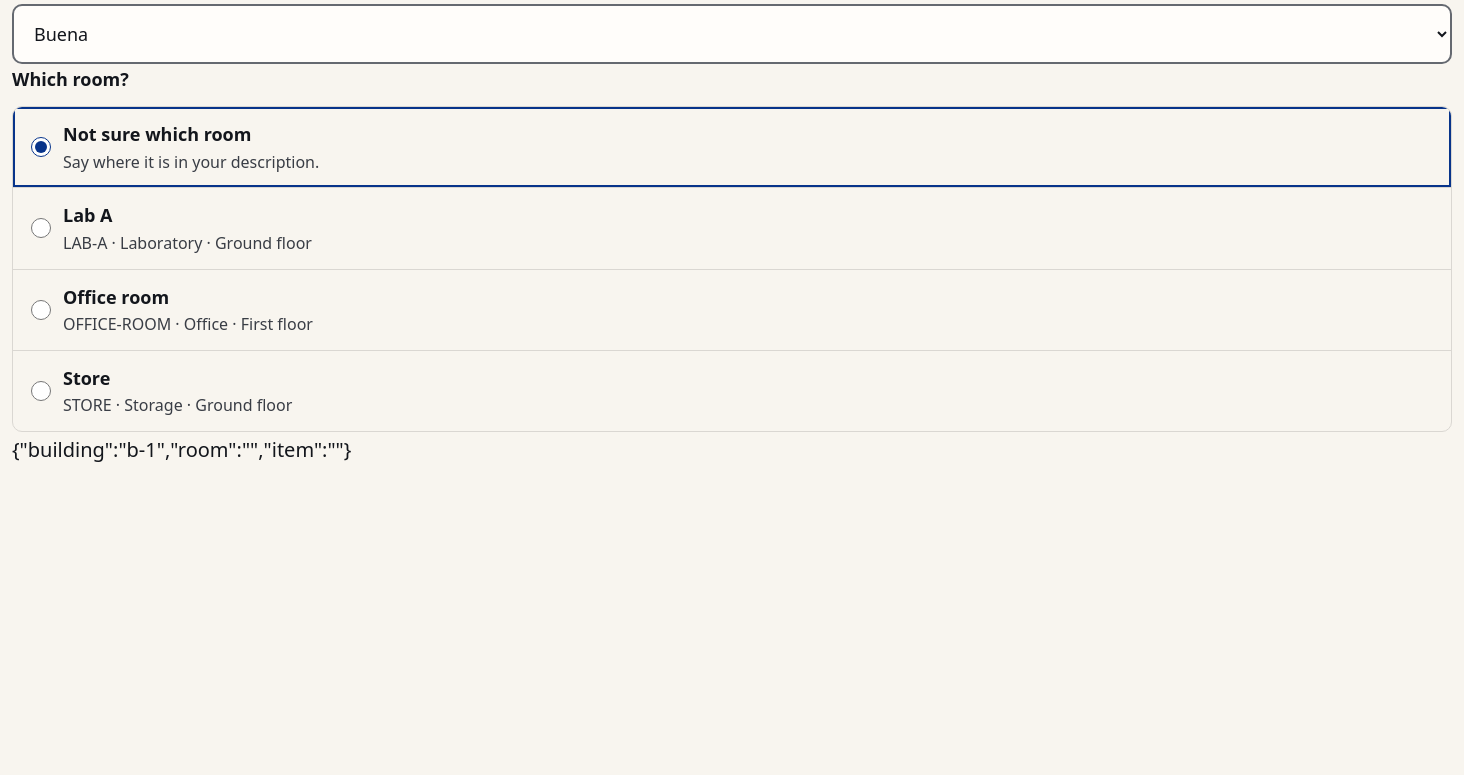
Scenario: WhereIsItPicker — items › lists the room’s computers and other equipment after a "not about a specific item" choice
Click the radio button labelled "Lab A LAB-A · Laboratory · Ground floor" at (41, 228), box [31, 218, 51, 238]
(page scrolled)
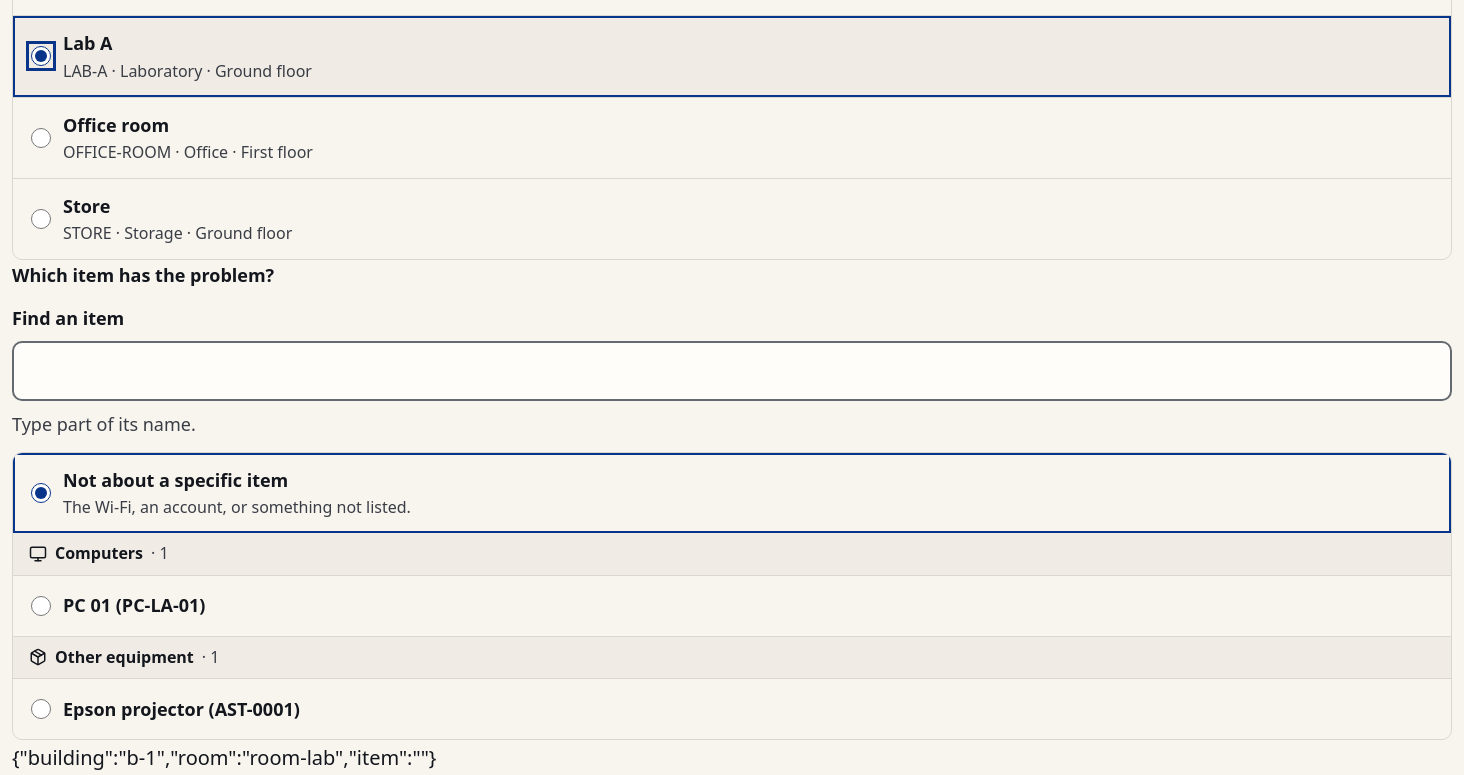
Check: the radio button labelled "PC 01 (PC-LA-01)" is shown, box [31, 596, 51, 616]
Check: the element "Computers · 1 PC 01 (PC-LA-01)" is shown, box [13, 533, 1451, 636]
Check: the element "Other equipment · 1 Epson projector (AST-0001)" is shown, box [13, 636, 1451, 739]
